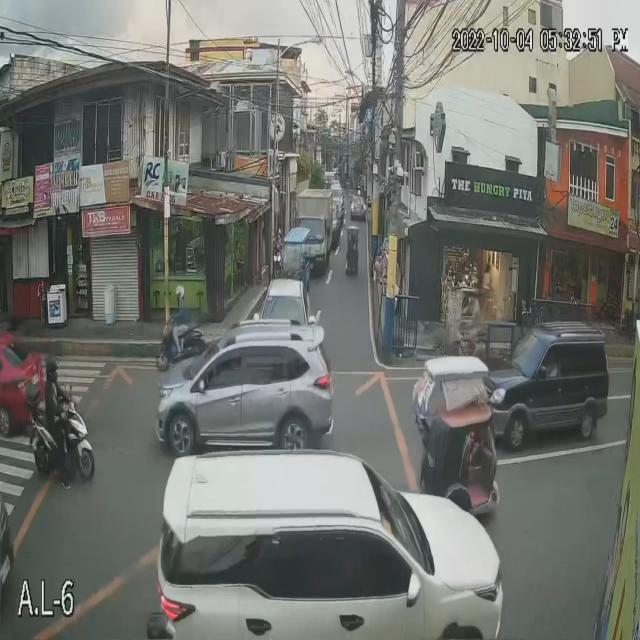full: (44, 358, 58, 380), (173, 283, 186, 303)
